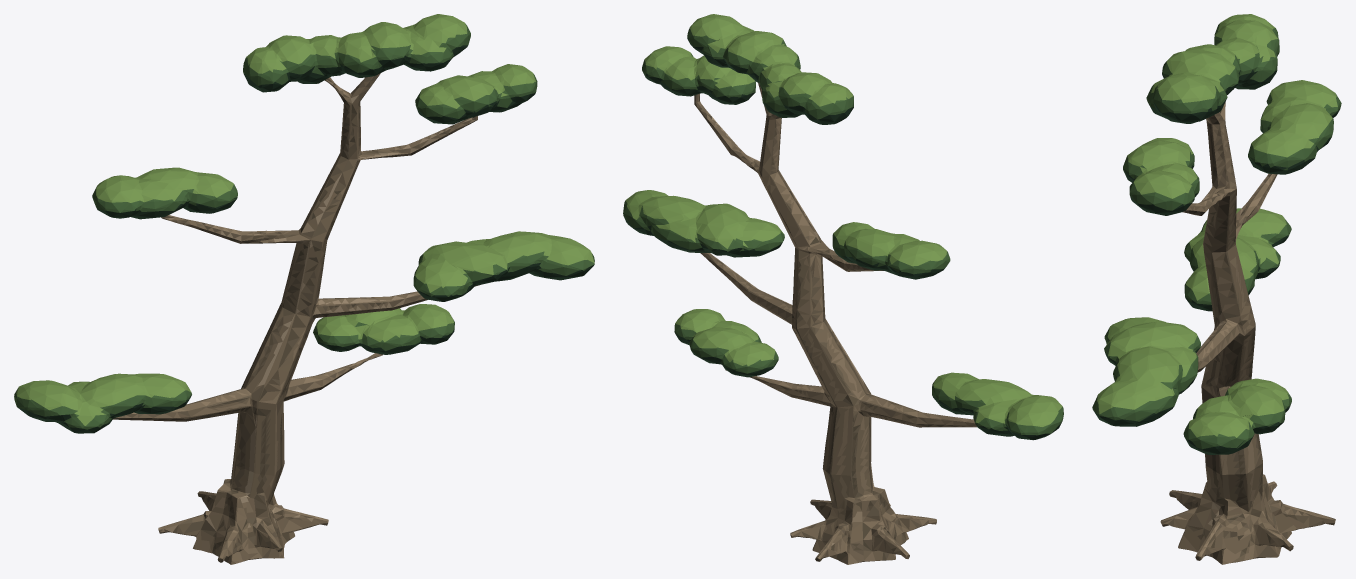
The model's file is ancient-pine-811-v2-aged.glb.
The picture shows the model from 3 angles, left to right: view 1: azimuth 30°, elevation 25°; view 2: azimuth 150°, elevation 25°; view 3: azimuth 270°, elevation 25°; orthographic projection. The views are drawn at different scales.
Visible parts, largest first — view 1: n12.002, n8.002, n11.002, n10.002, n9.002; view 2: n12.002, n8.002, n11.002, n9.002, n10.002; view 3: n12.002, n8.002, n11.002, n10.002, n9.002.
Part boxes in pixels (x1,y1,x2,y2): n12.002: (16,14,594,425); n8.002: (170,73,419,563); n11.002: (14,23,594,429); n10.002: (17,45,594,433); n9.002: (113,77,480,564); n12.002: (625,14,1062,426); n8.002: (727,82,928,564); n11.002: (623,27,1063,435); n9.002: (694,93,977,561); n10.002: (624,37,1061,440); n12.002: (1097,14,1337,437); n8.002: (1183,102,1296,564); n11.002: (1092,23,1341,449); n10.002: (1093,53,1339,454); n9.002: (1160,173,1335,560).
Size of the model in its own units: 5.93 by 5.52 by 2.24.
